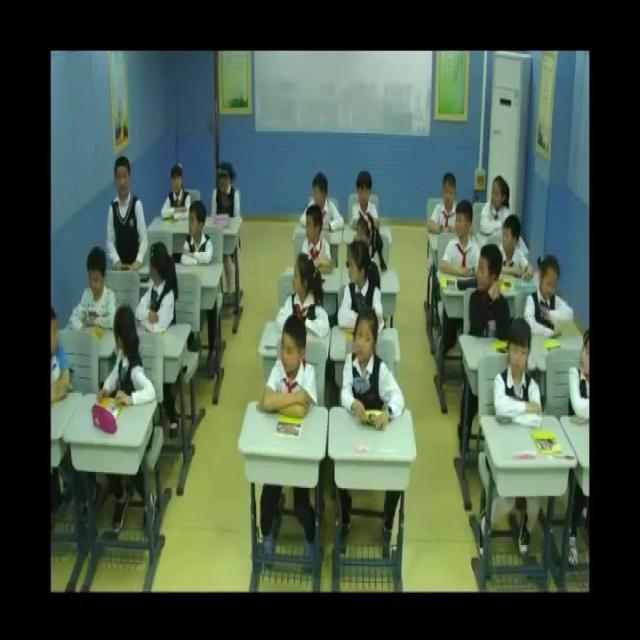distracted: (100, 303, 156, 409), (336, 240, 389, 332), (274, 255, 330, 340), (469, 241, 513, 340), (135, 244, 181, 338), (300, 168, 346, 234), (496, 212, 533, 287), (179, 200, 217, 273), (48, 308, 73, 406), (353, 210, 387, 278)
